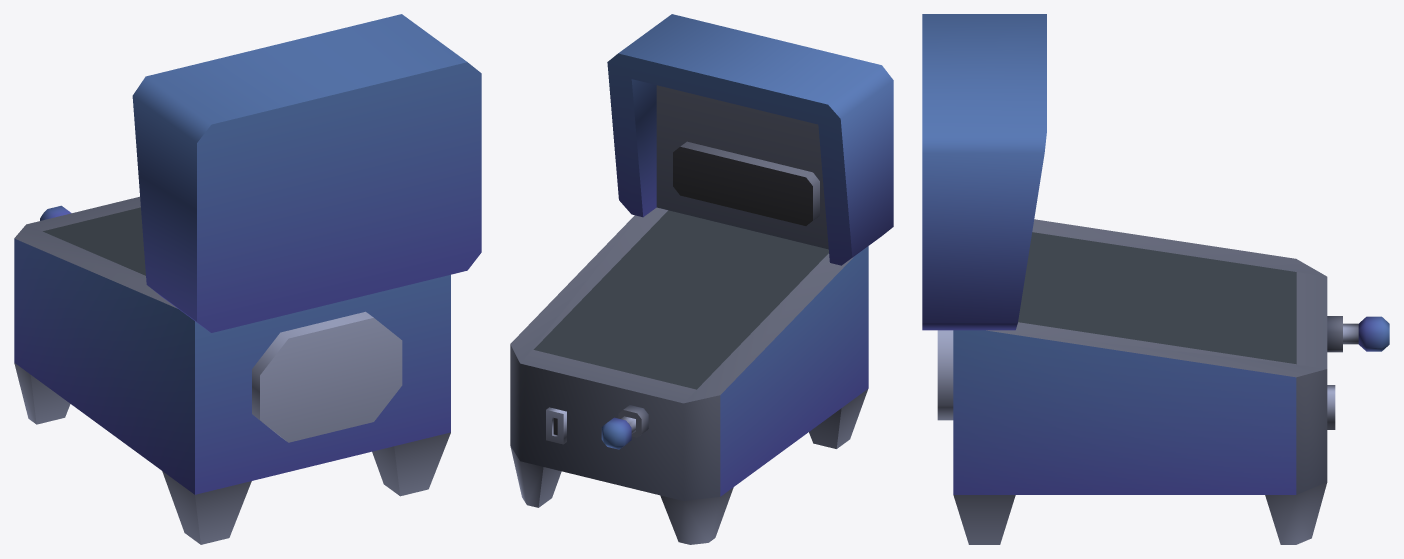
The model's file is pinball.fbx.
3 views of the same model, side by side, from view 1: azimuth 30°, elevation 25°; view 2: azimuth 150°, elevation 25°; view 3: azimuth 270°, elevation 25° (orthographic). The views are drawn at different scales.
Visible parts, largest first — view 1: pinball; view 2: pinball; view 3: pinball.
Boxes of the visible parts, x1=… form: pinball: x1=14, y1=14, x2=481, y2=544; pinball: x1=510, y1=14, x2=893, y2=544; pinball: x1=922, y1=14, x2=1389, y2=544.
Bounding box in the file's own units: 0.6667 × 0.9889 × 1.
